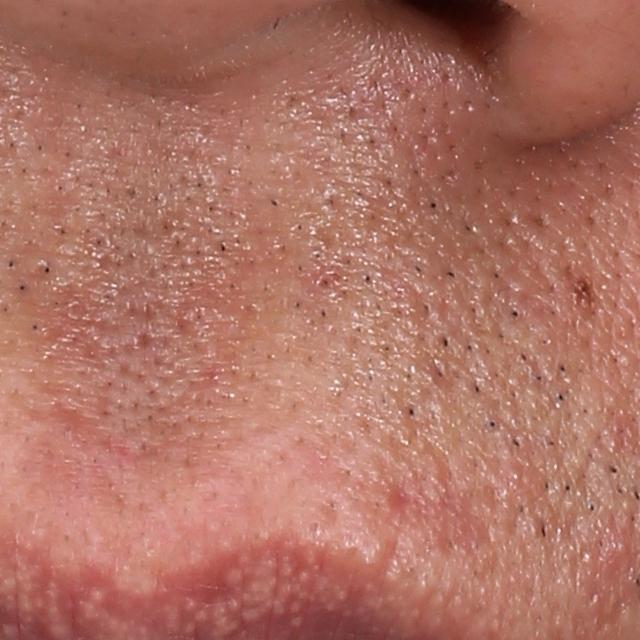nevus: (568, 273, 599, 314)
